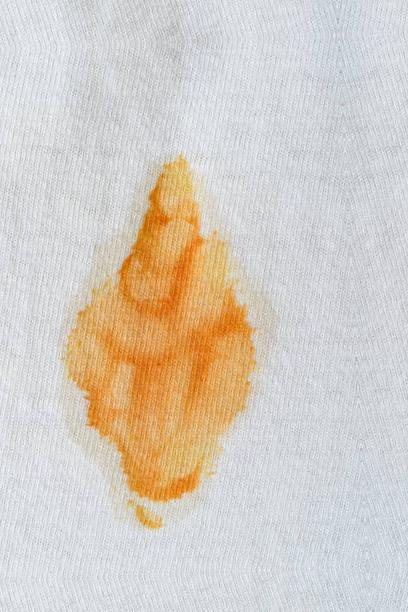stain: (63, 146, 266, 528)
